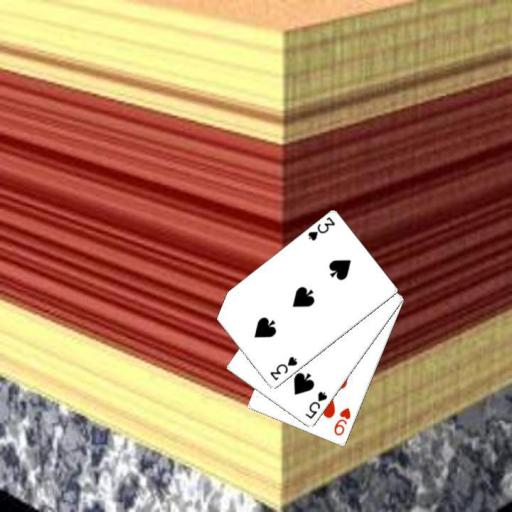3S: (267, 353, 299, 382), (305, 214, 337, 243)
5S: (302, 388, 329, 421)
9H: (331, 405, 352, 437)
